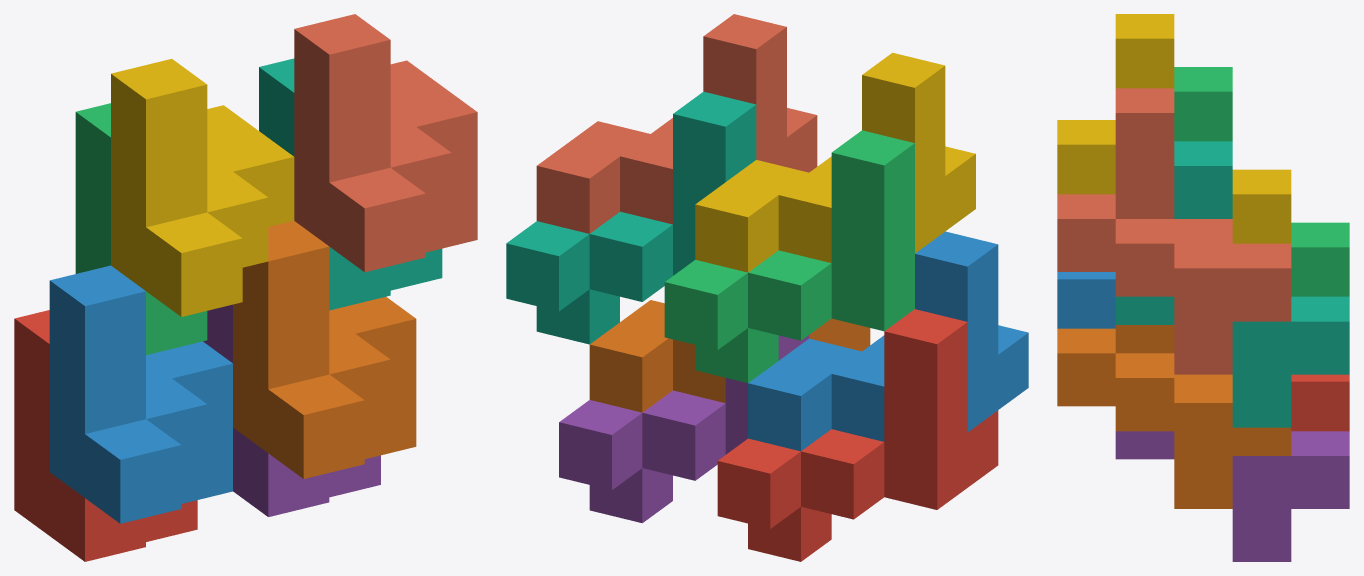
The model's file is tiling.obj.
3 views of the same model, side by side, from view 1: azimuth 30°, elevation 25°; view 2: azimuth 150°, elevation 25°; view 3: azimuth 270°, elevation 25° (orthographic). The views are drawn at different scales.
Visible parts, largest first — view 1: copy_1_domain_8, copy_1_domain_2, copy_1_domain_4, copy_1_domain_6, copy_1_domain_1, copy_1_domain_3, copy_1_domain_5, copy_1_domain_7; view 2: copy_1_domain_1, copy_1_domain_3, copy_1_domain_7, copy_1_domain_2, copy_1_domain_4, copy_1_domain_8, copy_1_domain_5, copy_1_domain_6; view 3: copy_1_domain_8, copy_1_domain_6, copy_1_domain_7, copy_1_domain_4, copy_1_domain_5, copy_1_domain_3, copy_1_domain_1, copy_1_domain_2.
Boxes of the visible parts, bbox=[...] form: copy_1_domain_8: bbox=[294, 14, 477, 272]; copy_1_domain_2: bbox=[49, 265, 232, 523]; copy_1_domain_4: bbox=[111, 59, 294, 316]; copy_1_domain_6: bbox=[233, 221, 416, 478]; copy_1_domain_1: bbox=[14, 310, 197, 561]; copy_1_domain_3: bbox=[75, 103, 207, 354]; copy_1_domain_5: bbox=[203, 304, 380, 516]; copy_1_domain_7: bbox=[259, 58, 442, 310]; copy_1_domain_1: bbox=[717, 309, 998, 561]; copy_1_domain_3: bbox=[664, 130, 914, 382]; copy_1_domain_7: bbox=[506, 91, 756, 344]; copy_1_domain_2: bbox=[748, 231, 1028, 451]; copy_1_domain_4: bbox=[695, 52, 975, 272]; copy_1_domain_8: bbox=[536, 14, 817, 233]; copy_1_domain_5: bbox=[559, 335, 809, 523]; copy_1_domain_6: bbox=[589, 300, 870, 412]; copy_1_domain_8: bbox=[1057, 88, 1291, 374]; copy_1_domain_6: bbox=[1057, 325, 1291, 508]; copy_1_domain_7: bbox=[1115, 141, 1349, 427]; copy_1_domain_4: bbox=[1057, 14, 1291, 243]; copy_1_domain_5: bbox=[1115, 431, 1349, 561]; copy_1_domain_3: bbox=[1174, 67, 1349, 296]; copy_1_domain_1: bbox=[1291, 374, 1349, 431]; copy_1_domain_2: bbox=[1057, 272, 1115, 328].
Size of the model in its own units: 7 by 8 by 5.
